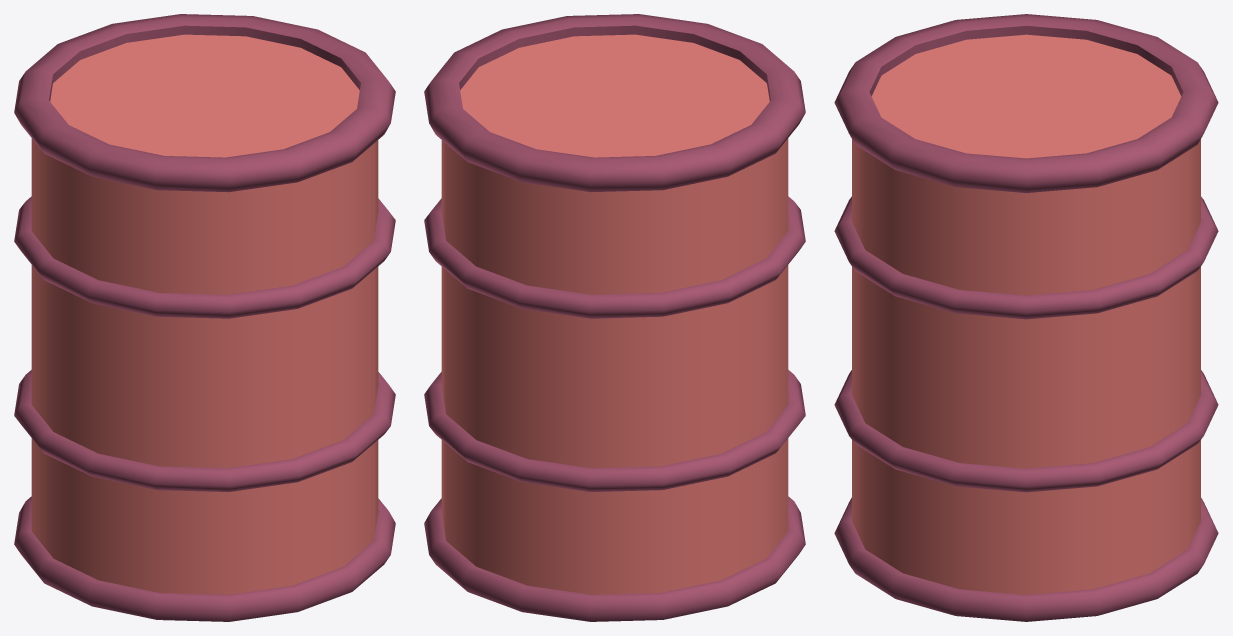
Rendered from OiI BarreI (1).fbx.
3 views of the same model, side by side, from view 1: azimuth 30°, elevation 25°; view 2: azimuth 150°, elevation 25°; view 3: azimuth 270°, elevation 25° (orthographic).
Parts seen in each view (by area): view 1: pCylinder1; view 2: pCylinder1; view 3: pCylinder1.
Part boxes in pixels (left/top/right/bottom): pCylinder1: left=14, top=14, right=395, bottom=621; pCylinder1: left=424, top=14, right=805, bottom=621; pCylinder1: left=834, top=14, right=1218, bottom=621.
Size of the model in its own units: 15.42 by 20.15 by 15.42.
